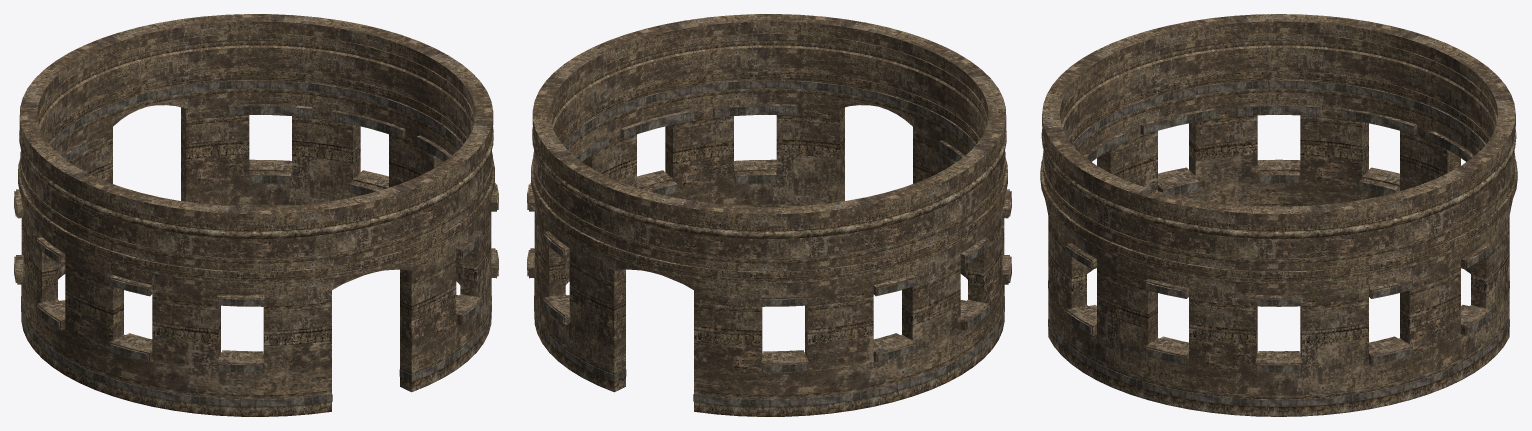
The model's file is materials_5_wall_cylinder_8.fbx.
3 renders of one model, left to right at view 1: azimuth 30°, elevation 25°; view 2: azimuth 150°, elevation 25°; view 3: azimuth 270°, elevation 25°, orthographic.
Parts seen in each view (by area): view 1: materials_5_wall_cylinder_8; view 2: materials_5_wall_cylinder_8; view 3: materials_5_wall_cylinder_8.
Boxes of the visible parts, x1,y1,x2,y2 form: materials_5_wall_cylinder_8: [14, 14, 498, 416]; materials_5_wall_cylinder_8: [527, 14, 1011, 416]; materials_5_wall_cylinder_8: [1040, 14, 1517, 416].
Size of the model in its own units: 822 by 381 by 809.
